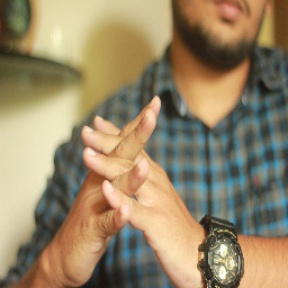W: (77, 90, 176, 248)
